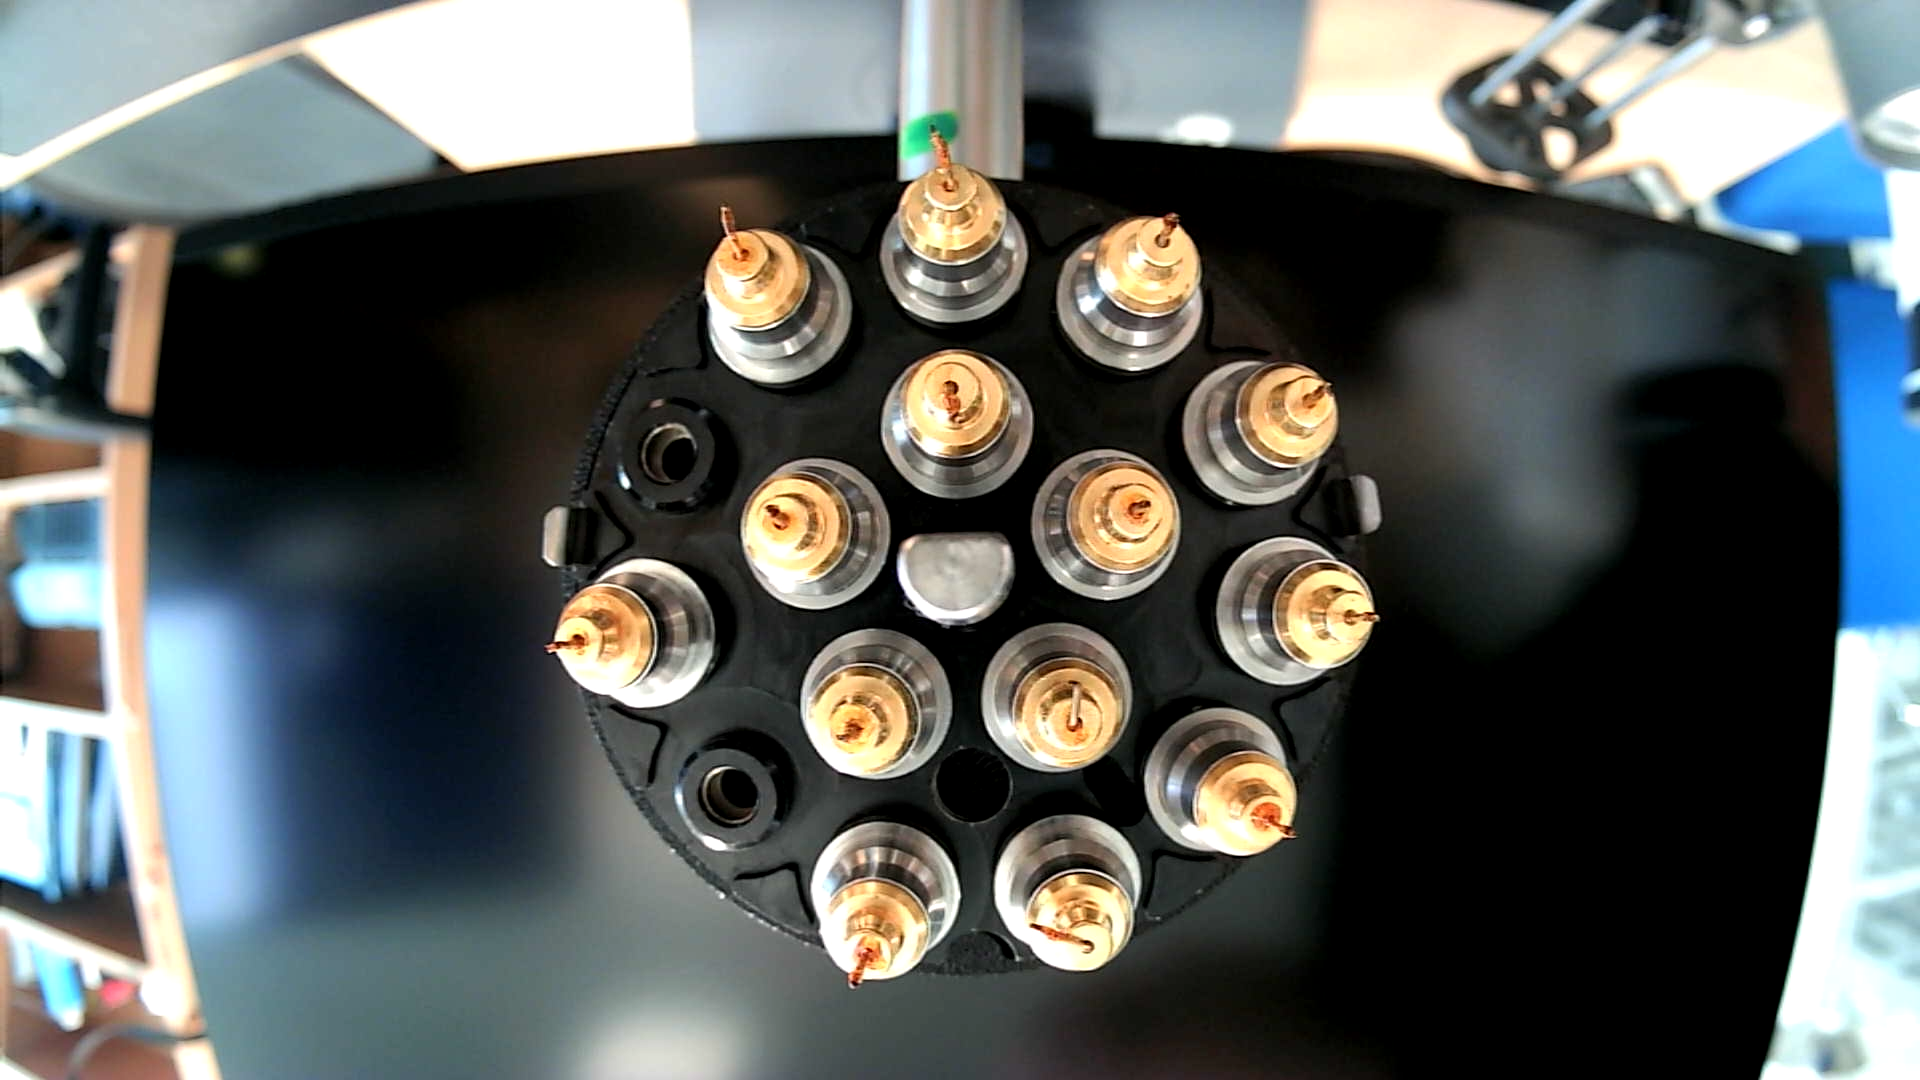bent: (880, 121, 1030, 328), (988, 811, 1147, 981), (978, 617, 1137, 781), (876, 345, 1036, 505)
empty: (670, 725, 804, 858), (609, 393, 740, 518)
hole: (931, 738, 1015, 829)
pin: (700, 199, 857, 392), (541, 554, 725, 712), (807, 814, 963, 992), (1205, 534, 1377, 691), (1055, 208, 1207, 380), (1141, 702, 1302, 862), (796, 625, 956, 782), (1029, 446, 1183, 605), (1178, 359, 1337, 513), (738, 455, 894, 611)
rod: (895, 527, 1019, 629)
